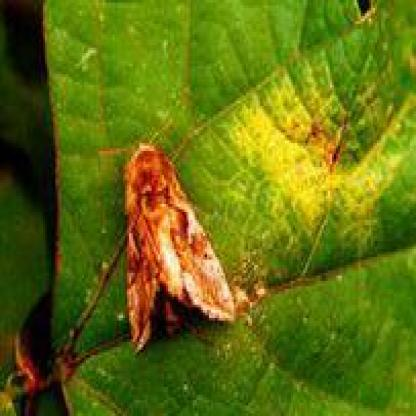armyworm: (120, 139, 244, 344)
